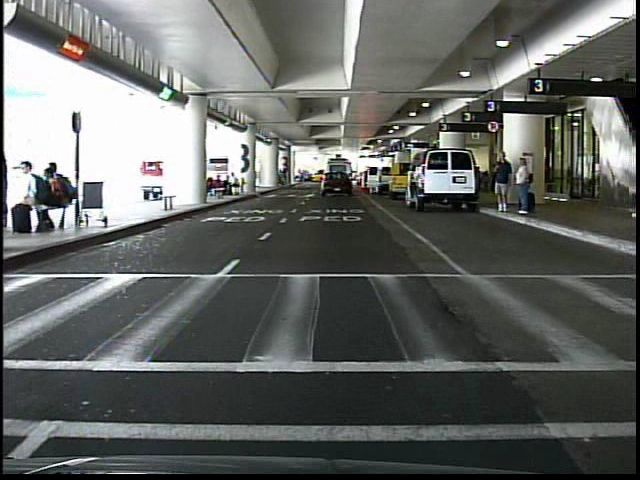person: (491, 147, 513, 217), (513, 154, 535, 221), (328, 170, 338, 193)
